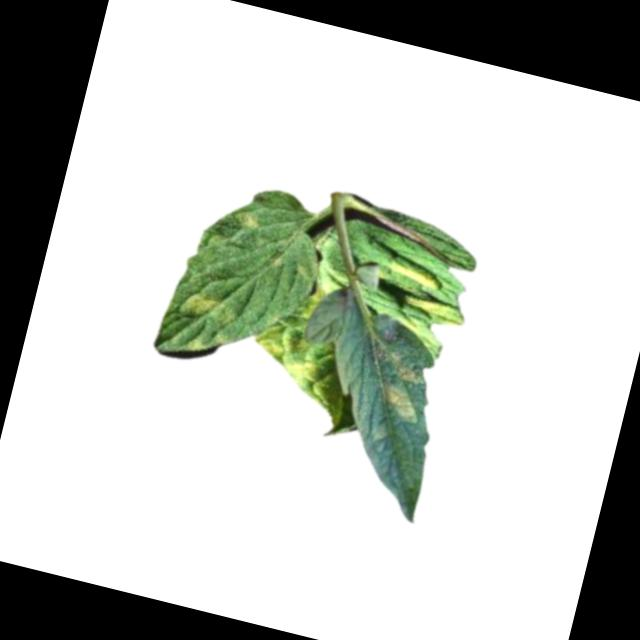Leaf_Mold: (240, 273, 354, 395), (398, 287, 470, 335), (176, 286, 244, 330), (384, 253, 447, 293), (377, 379, 424, 425), (231, 208, 264, 235)
